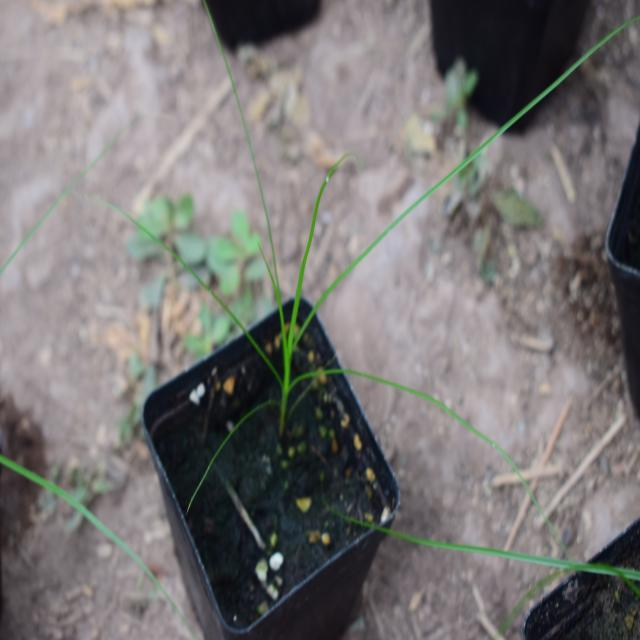sedge: (130, 76, 512, 492)
